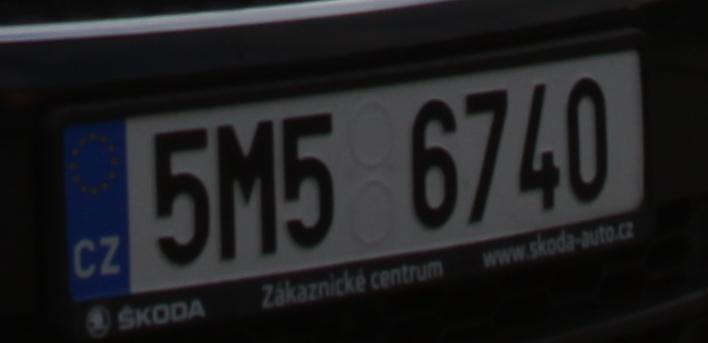0: (569, 78, 607, 203)
4: (521, 83, 560, 210)
5: (154, 133, 211, 264), (283, 113, 333, 248)
6: (413, 101, 457, 229)
7: (467, 88, 509, 222)
M: (217, 125, 276, 256)
